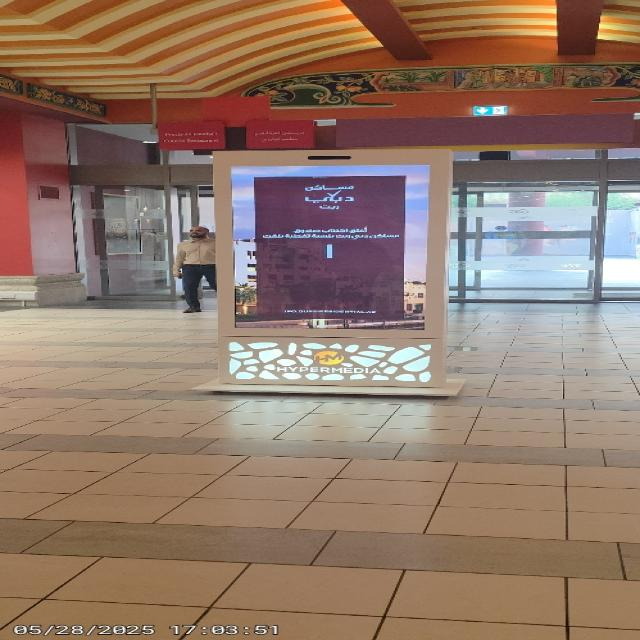mupi: (213, 149, 452, 387)
